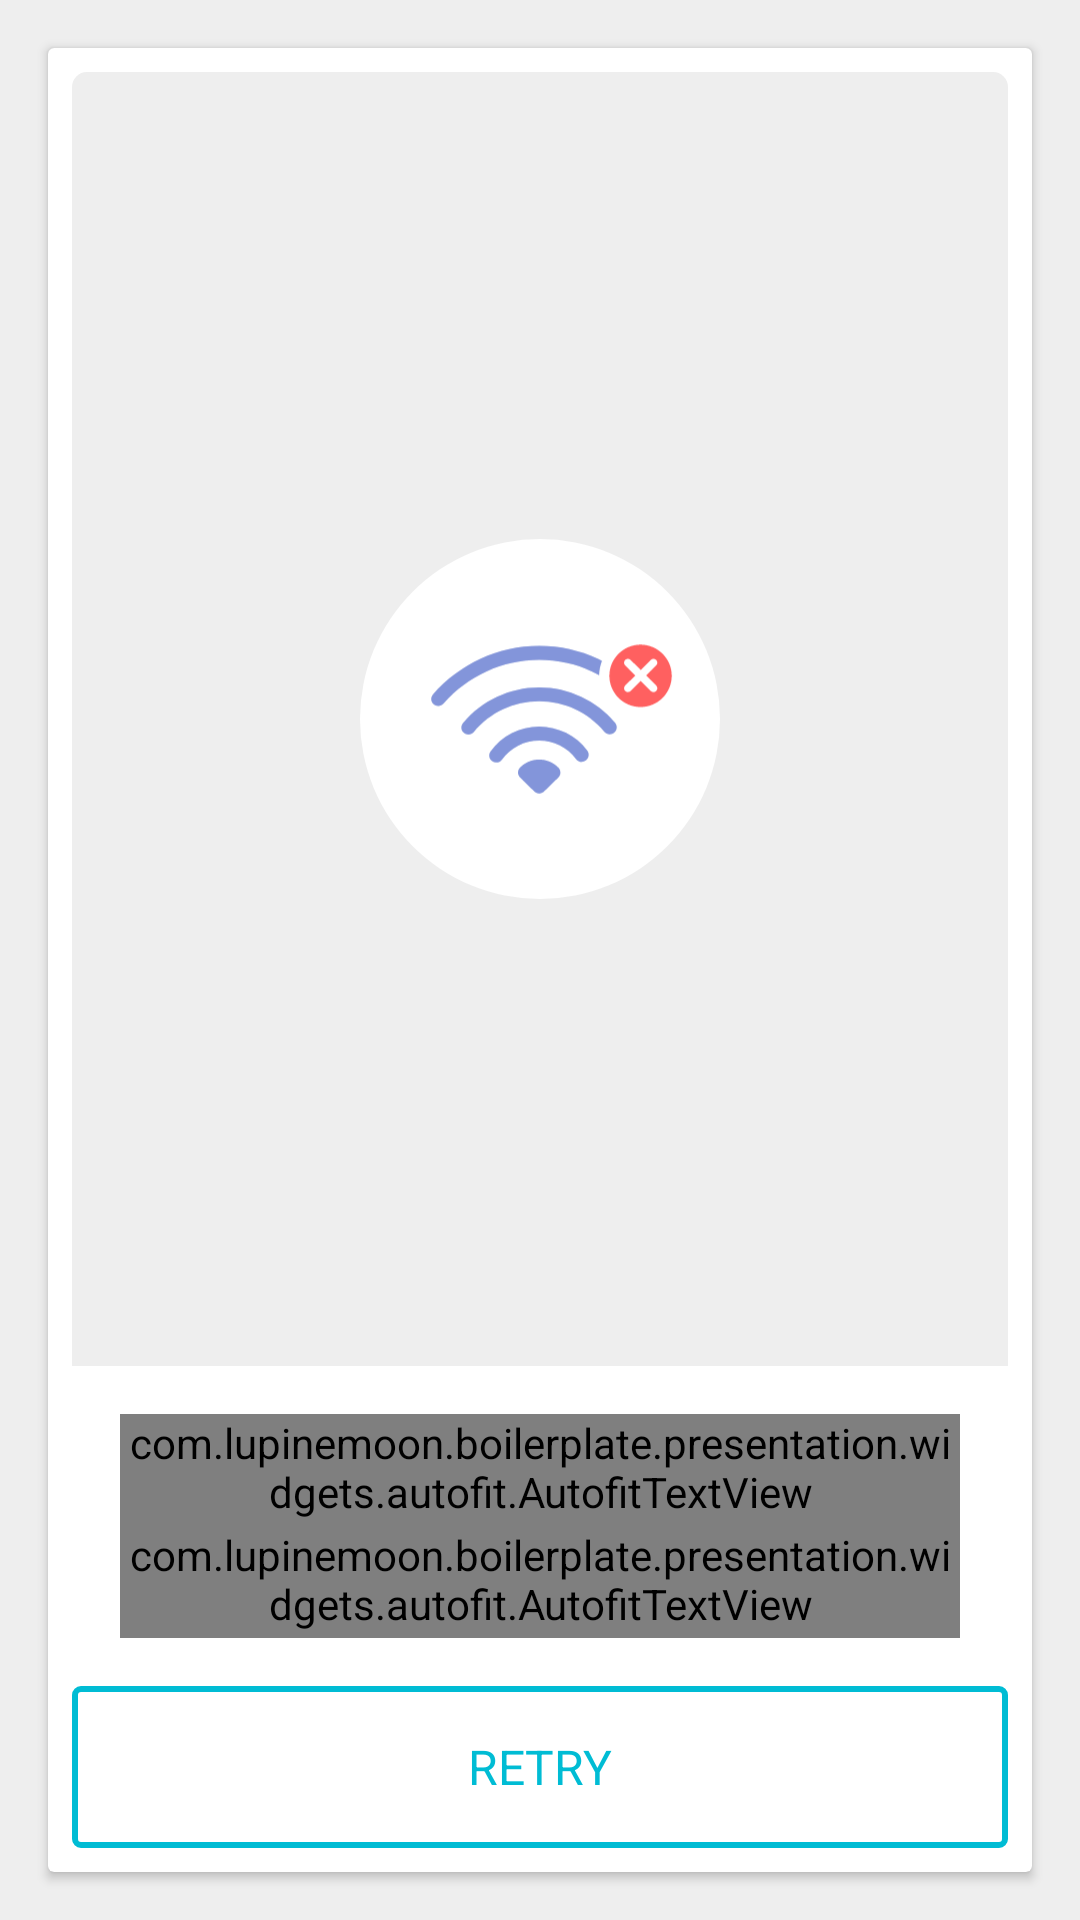

Screen size 1080 x 1920. Icon name, then its box in pixels as (x1, y1, x2, y2):
no connection: (360, 539, 720, 899)
